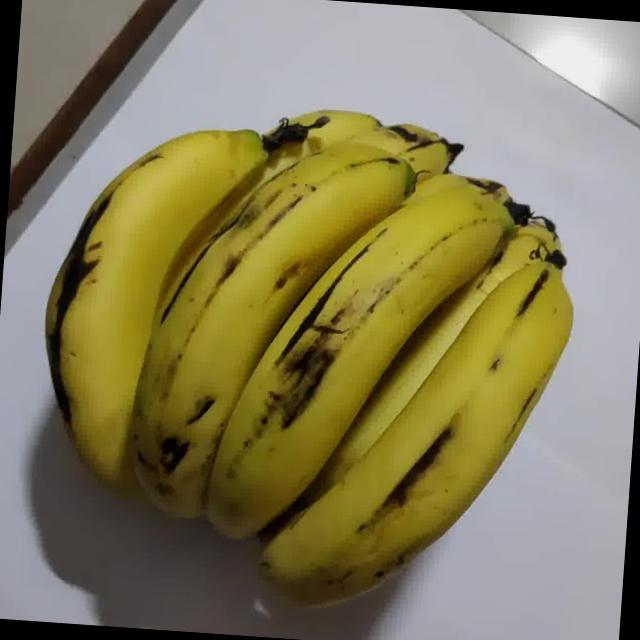banana_pacche: (26, 0, 631, 634)
